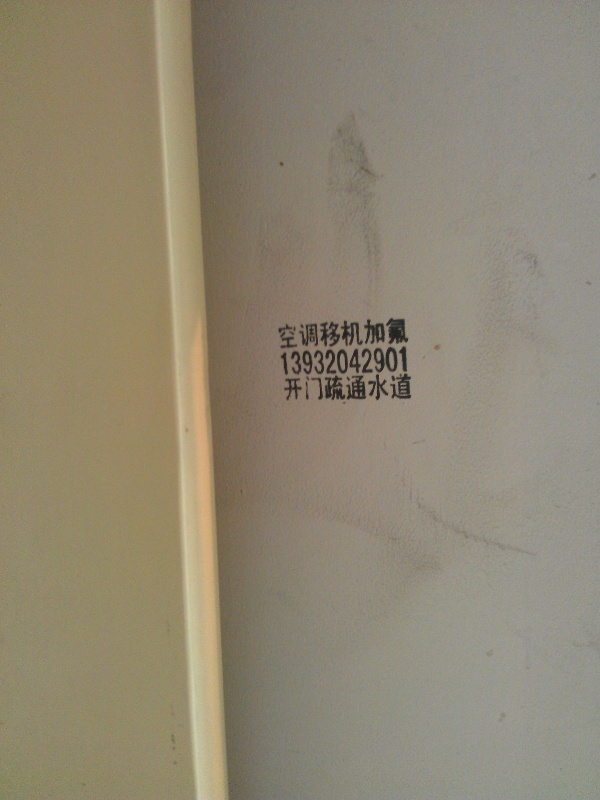text: (289, 317, 304, 351), (305, 317, 320, 351), (321, 317, 336, 351), (337, 317, 352, 351), (353, 317, 368, 351), (369, 317, 384, 351), (385, 317, 400, 351), (289, 346, 304, 377), (305, 346, 320, 377), (321, 346, 336, 377), (337, 346, 352, 377), (353, 346, 368, 377), (369, 346, 384, 377), (385, 346, 400, 377), (289, 373, 304, 402), (305, 373, 320, 402), (321, 373, 336, 402), (337, 373, 352, 402), (353, 373, 368, 402), (369, 373, 384, 402), (385, 373, 400, 402), (276, 317, 288, 351), (401, 317, 412, 351), (401, 373, 413, 402), (278, 346, 288, 377), (401, 346, 410, 377), (284, 373, 288, 402)
